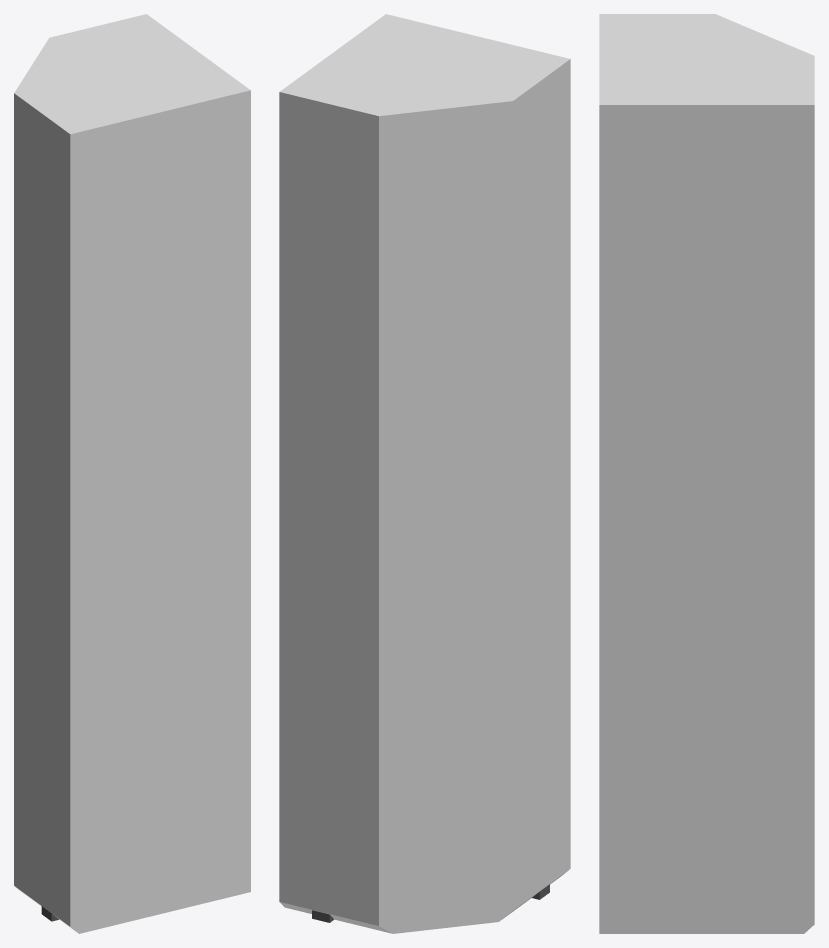
The model's file is SM_Bld_Wall_Corner_Pillar_04.fbx.
3 renders of one model, left to right at view 1: azimuth 30°, elevation 25°; view 2: azimuth 150°, elevation 25°; view 3: azimuth 270°, elevation 25°, orthographic. The views are drawn at different scales.
Visible parts, largest first — view 1: SM_Bld_Wall_Corner_Pillar_04_ConvexHulls; view 2: SM_Bld_Wall_Corner_Pillar_04_ConvexHulls; view 3: SM_Bld_Wall_Corner_Pillar_04_ConvexHulls.
Boxes of the visible parts, bbox=[...] form: SM_Bld_Wall_Corner_Pillar_04_ConvexHulls: bbox=[14, 14, 250, 933]; SM_Bld_Wall_Corner_Pillar_04_ConvexHulls: bbox=[279, 14, 570, 933]; SM_Bld_Wall_Corner_Pillar_04_ConvexHulls: bbox=[599, 14, 814, 933].
Bounding box in the file's own units: 120 × 120 × 509.
Materials: 1 (1 with a texture image).
